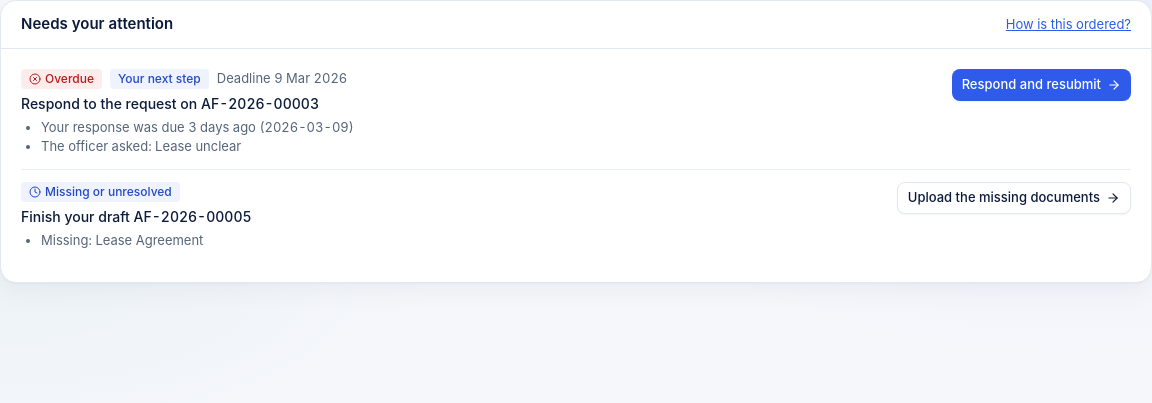
Test case: priority list › lists ranked items with the reason for each, flags the first step for an institution and explains the ordering
Expected: the text "Your next step" is shown, [110,68,209,88]
Expected: the list item "The officer asked: Lease unclear" is shown, [41,138,241,154]
Click the button "How is this ordered?": (1068, 24) [1006,10,1131,38]
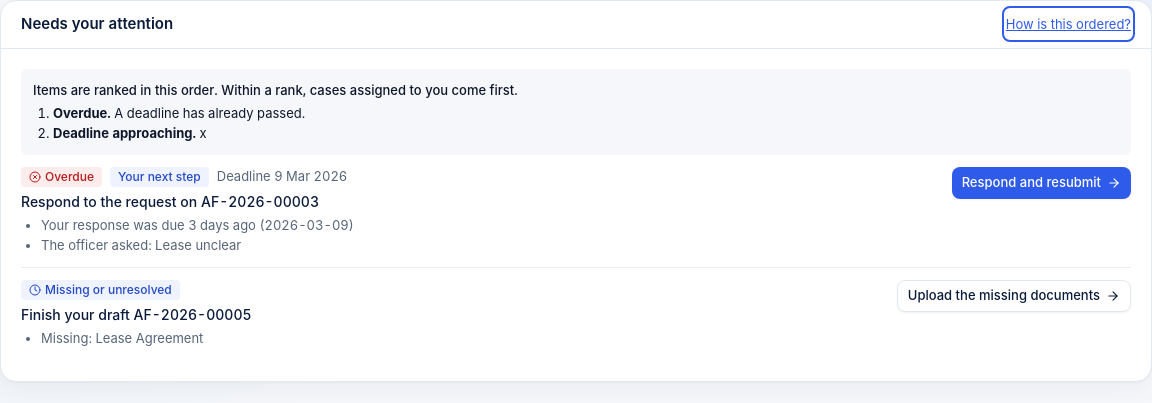
Expected: the list item "Overdue. A deadline has already passed." is shown, [53,105,305,121]
Expected: the text "assigned to you come first" is shown, [221,82,518,98]
